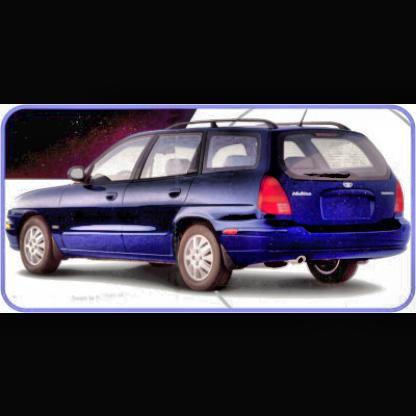Daewoo Nubira Wagon 2002: (7, 110, 414, 296)
